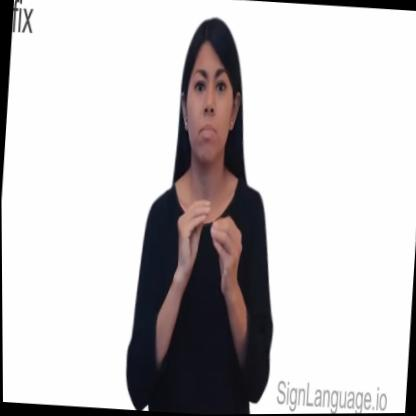Fix: (120, 6, 296, 415)
